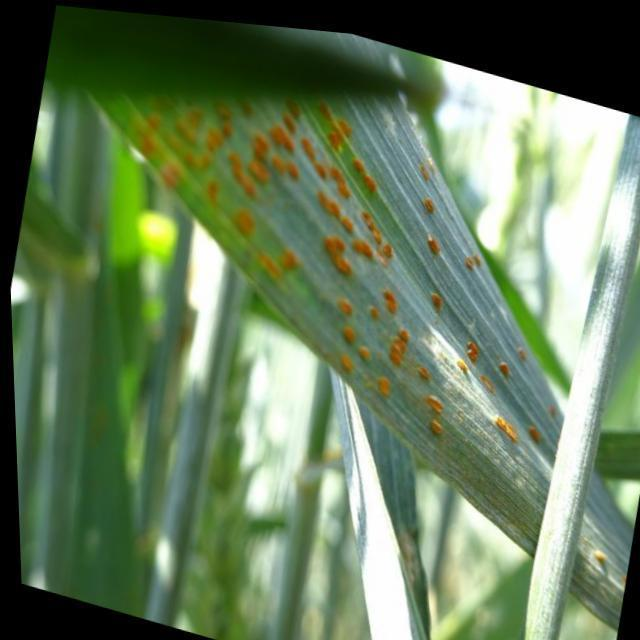Stem Rust: (100, 73, 565, 549)
